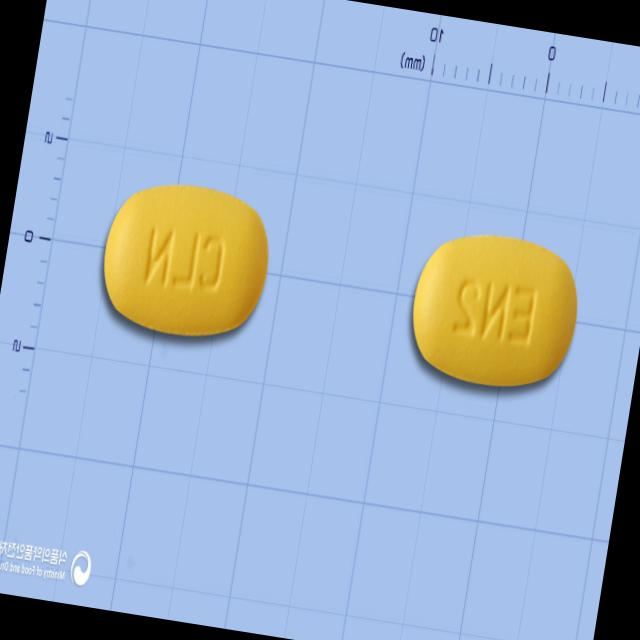Criacin: (402, 222, 588, 398), (93, 174, 278, 348)
